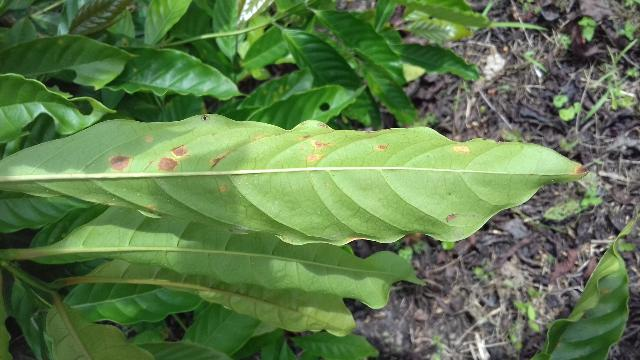rust_level_1: (0, 115, 585, 245)
